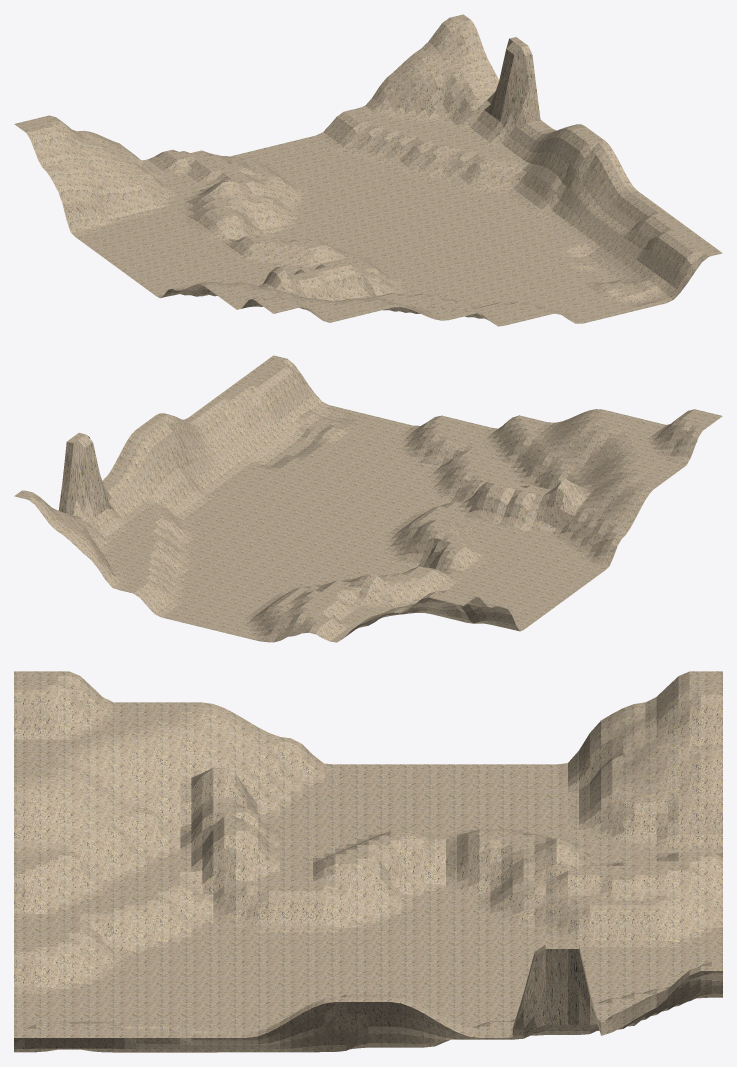
Rendered from Town_Geo_No_Buildings.glb.
3 views of the same model, one above another, from view 1: azimuth 30°, elevation 25°; view 2: azimuth 150°, elevation 25°; view 3: azimuth 270°, elevation 25° (orthographic). The views are drawn at different scales.
Parts seen in each view (by area): view 1: Town_Geography-col; view 2: Town_Geography-col; view 3: Town_Geography-col.
Part boxes in pixels (x1,y1,x2,y2): Town_Geography-col: (14,14,722,326); Town_Geography-col: (14,355,722,642); Town_Geography-col: (14,671,722,1052).
Bounding box in the file's own units: 140 × 31.43 × 140.
1 material, 1 textured.
